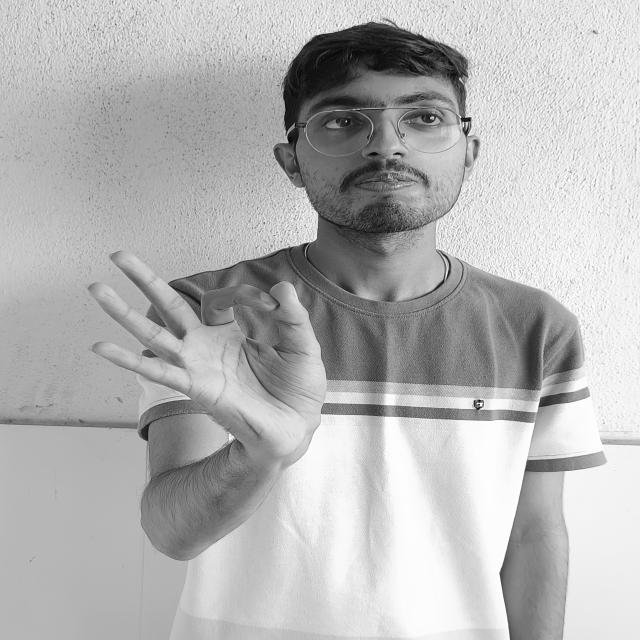Superb: (53, 228, 411, 477)
